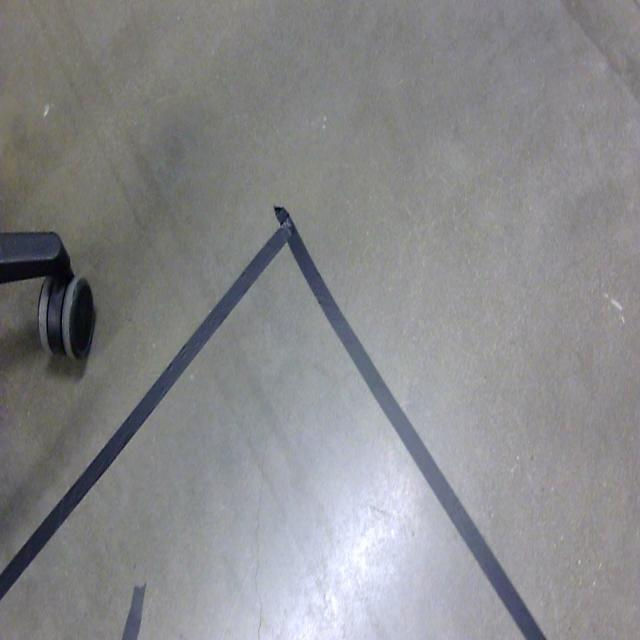tape: (0, 181, 558, 640), (104, 556, 164, 640)
